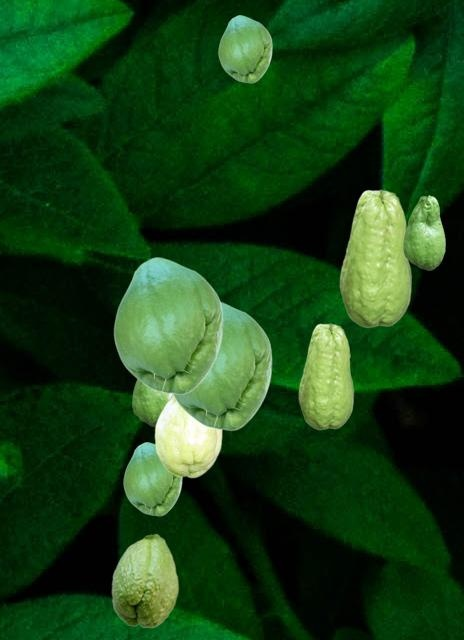sayote: (113, 257, 222, 394), (173, 302, 271, 430), (339, 189, 411, 327), (111, 533, 178, 627), (298, 323, 353, 429), (154, 395, 221, 477), (123, 442, 181, 515), (218, 15, 271, 82), (403, 195, 444, 269), (132, 379, 166, 427)
